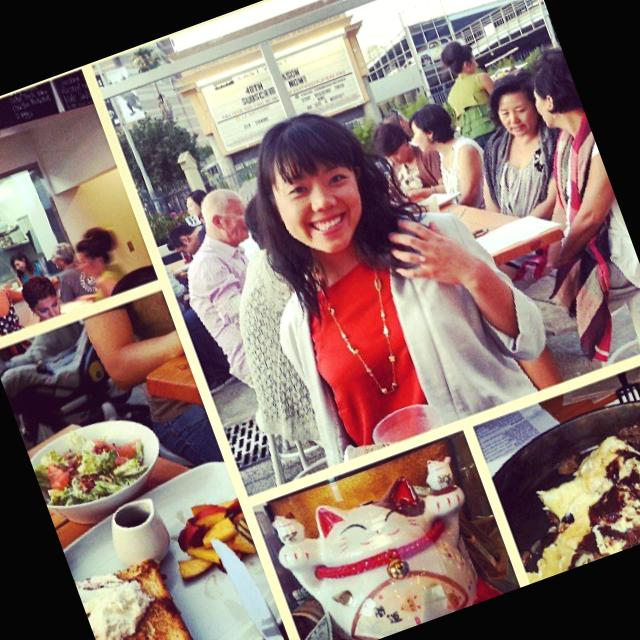Vehicle: (414, 28, 470, 68)
